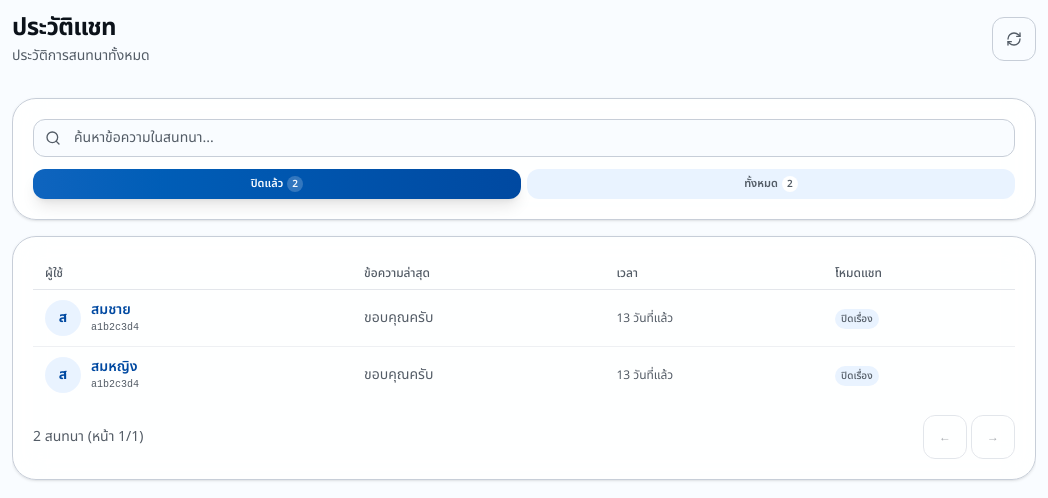
Test case: ChatHistoriesClient อ่านอย่างเดียว › ค้นหากรองลิสต์ฝั่ง client
This screenshot has width=1048, height=498.
Expected: the text "สมชาย" is shown, [91, 299, 131, 320]
Type "สมหญิง" into the search field named "ค้นหาประวัติการสนทนา". click: (524, 138)
box: [33, 119, 1015, 157]
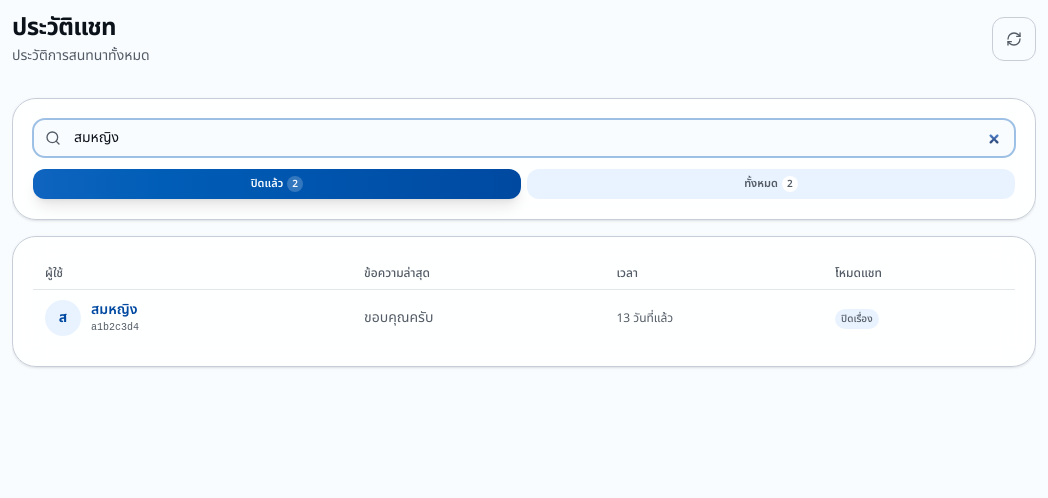
Expected: the text "สมหญิง" is shown, [91, 300, 139, 320]
Now the link "สมชาย" is gone
